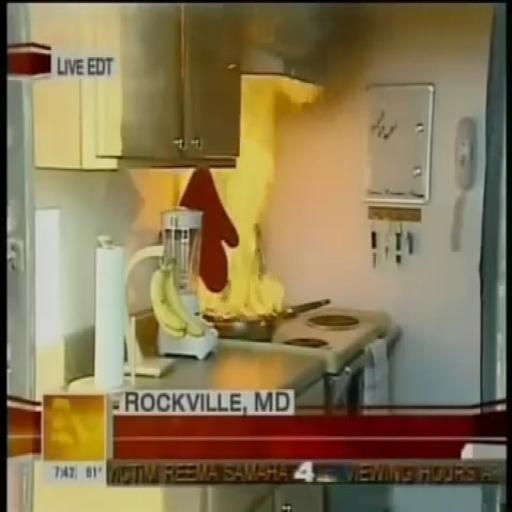fire: (196, 136, 285, 323)
